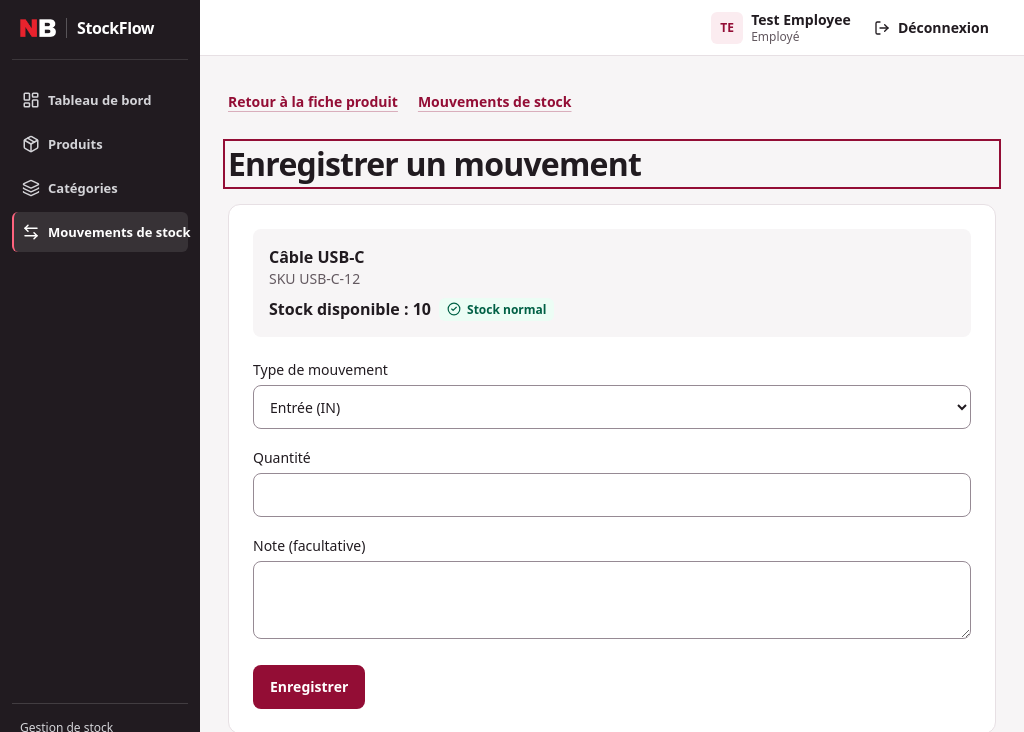
Test: retries an uncertain result with exactly the original movement payload
The width and height of the screenshot is (1024, 732).
Type "4" into the field labelled "Quantité". click: (612, 495)
box: [253,473,971,517]
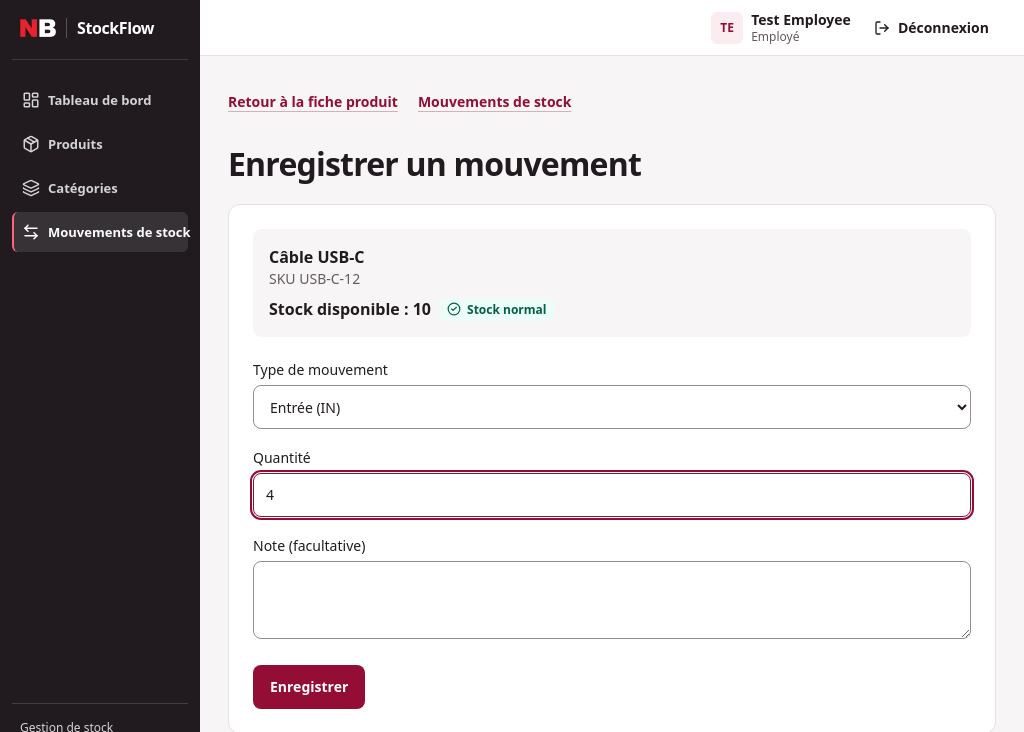
Type "Livraison" into the text box labelled "Note (facultative)". click: (612, 600)
box: [253,561,971,639]
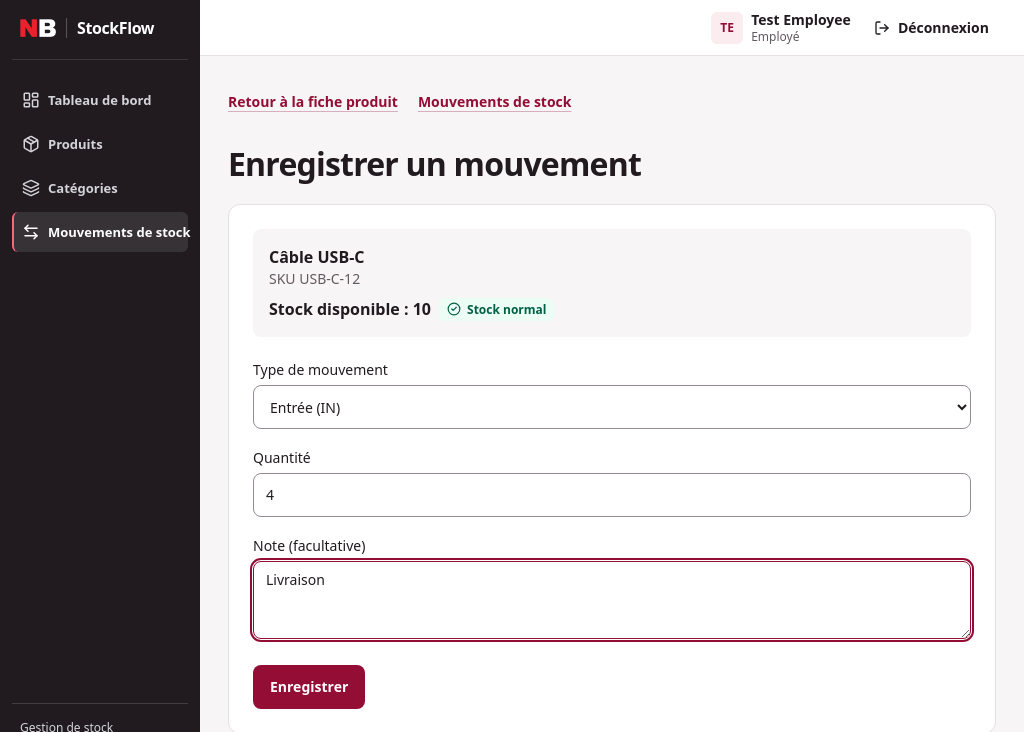
Click the button "Enregistrer". click: (309, 687)
box: [253,665,365,709]
(page scrolled)
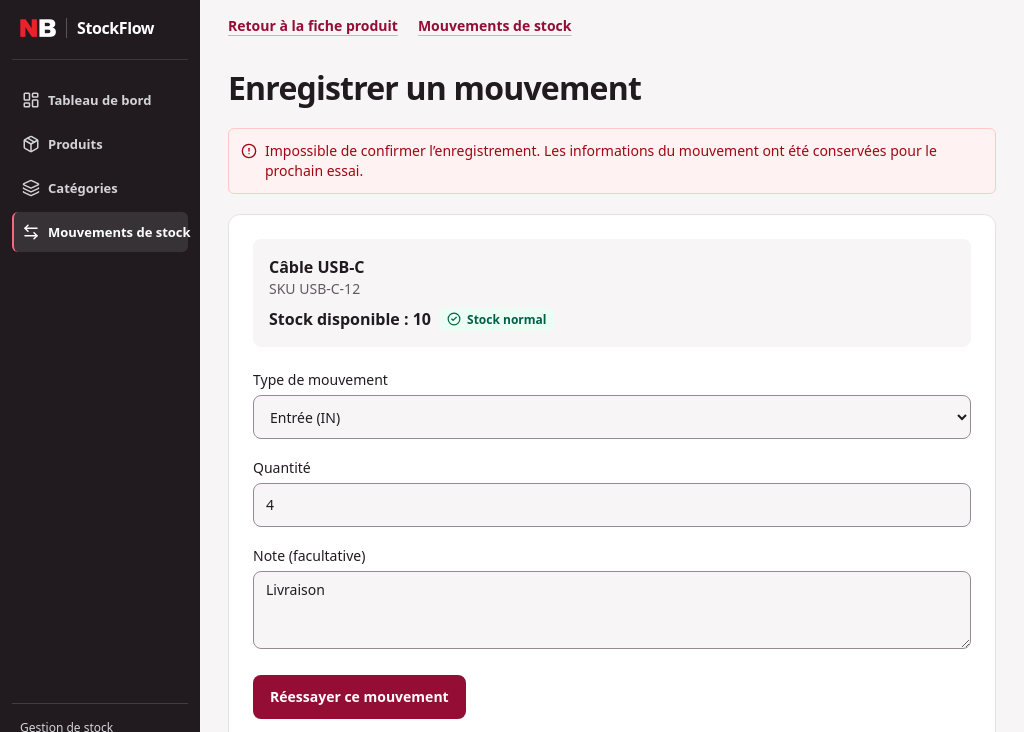
Expected: the text "les informations du mouvement ont été conservées" is shown, [265,141,937,180]
Click the button "Réessayer ce mouvement". click: (359, 697)
box: [253,675,466,719]
(page scrolled)
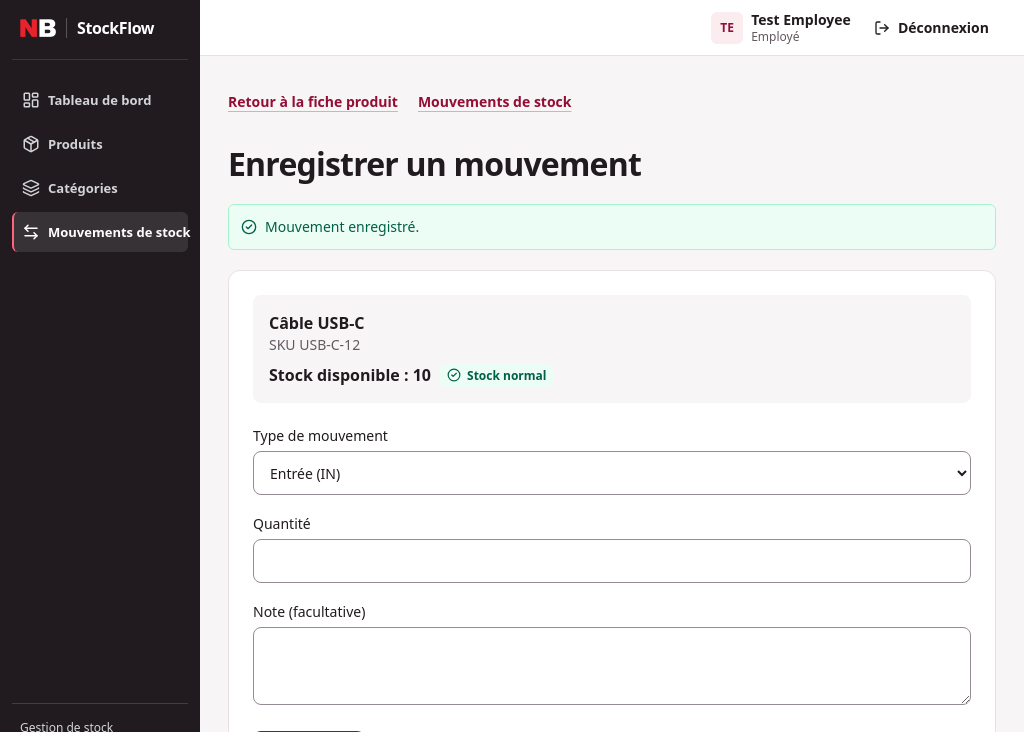
Expected: the text "Mouvement enregistré." is shown, [265,217,419,237]
